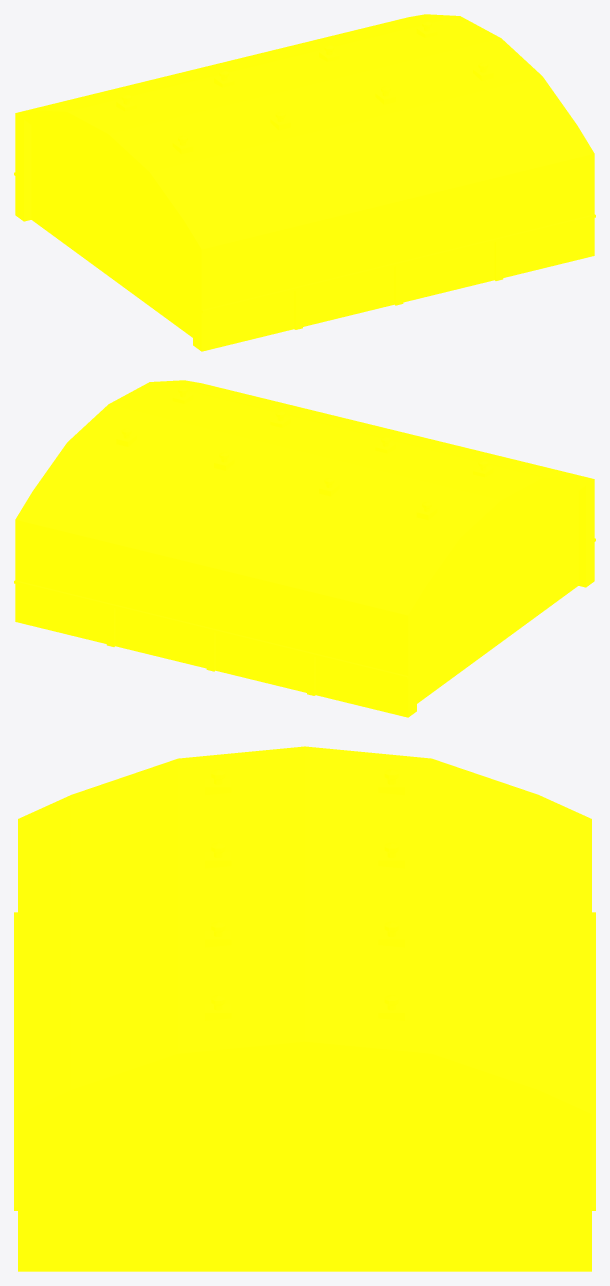
Rendered from airport-hangar.glb.
The picture shows the model from 3 angles, top to bottom: view 1: azimuth 30°, elevation 25°; view 2: azimuth 150°, elevation 25°; view 3: azimuth 270°, elevation 25°; orthographic projection. The views are drawn at different scales.
Visible parts, largest first — view 1: airport-hangar; view 2: airport-hangar; view 3: airport-hangar.
Boxes of the visible parts, left/top/right/bottom form: airport-hangar: left=14, top=14, right=595, bottom=351; airport-hangar: left=14, top=380, right=595, bottom=717; airport-hangar: left=14, top=746, right=595, bottom=1271.
Bounding box in the file's own units: 52.33 × 19.94 × 43.6.
1 material, 1 textured.
